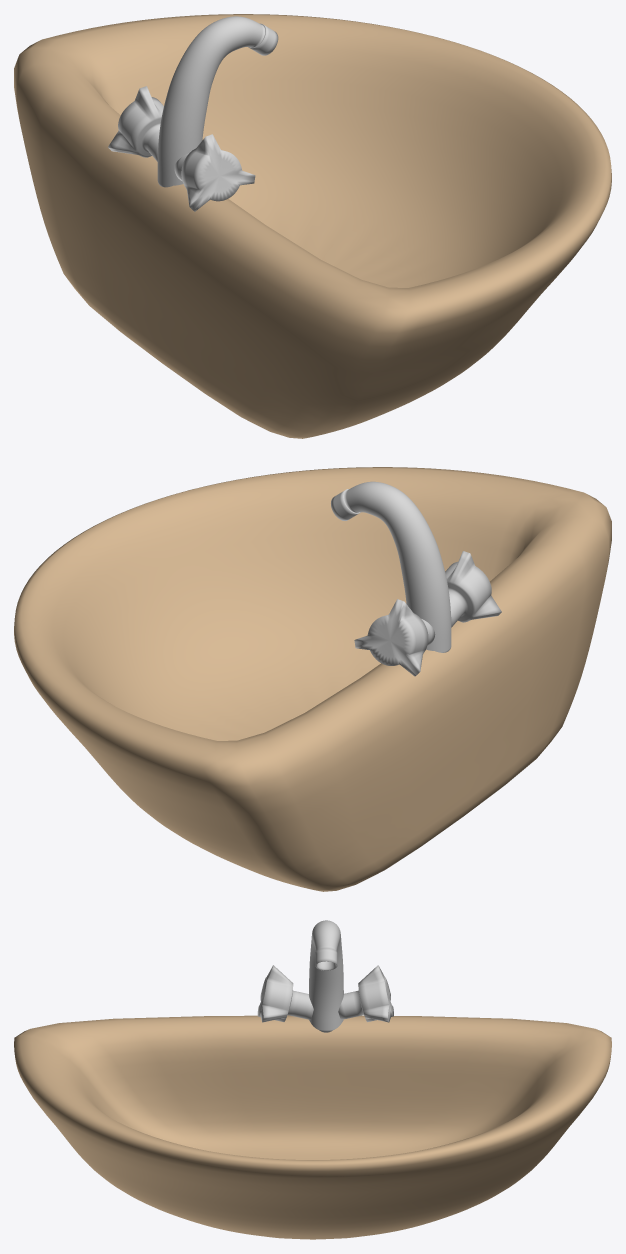
The model's file is Sink.fbx.
3 renders of one model, top to bottom at view 1: azimuth 30°, elevation 25°; view 2: azimuth 150°, elevation 25°; view 3: azimuth 270°, elevation 25°, orthographic. The views are drawn at different scales.
Parts seen in each view (by area): view 1: Окружность; view 2: Окружность; view 3: Окружность.
Part boxes in pixels (x1=…): Окружность: x1=14, y1=14, x2=611, y2=438; Окружность: x1=14, y1=467, x2=611, y2=891; Окружность: x1=14, y1=920, x2=611, y2=1239.
Size of the model in its own units: 29.19 by 23.31 by 46.66.
